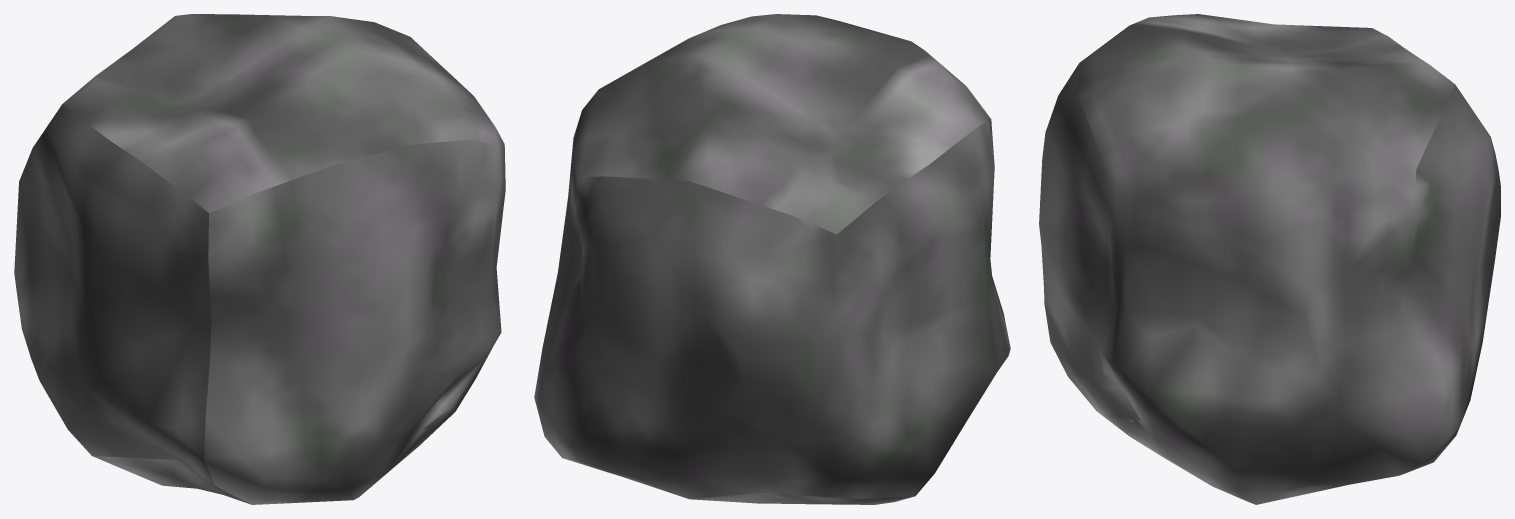
The model's file is rock1.obj.
3 views of the same model, side by side, from view 1: azimuth 30°, elevation 25°; view 2: azimuth 150°, elevation 25°; view 3: azimuth 270°, elevation 25° (orthographic). The views are drawn at different scales.
Visible parts, largest first — view 1: Cube; view 2: Cube; view 3: Cube.
Part boxes in pixels (<box>): Cube: <box>14,14,505,504</box>; Cube: <box>534,14,1010,504</box>; Cube: <box>1039,14,1500,504</box>.
Size of the model in its own units: 2.32 by 2.43 by 2.4.
